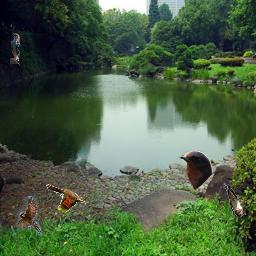Cuckoo: (46, 184, 86, 213)
Swallow: (179, 150, 213, 190), (9, 196, 42, 236), (224, 184, 245, 216)
Woodpecker: (10, 32, 20, 66)
